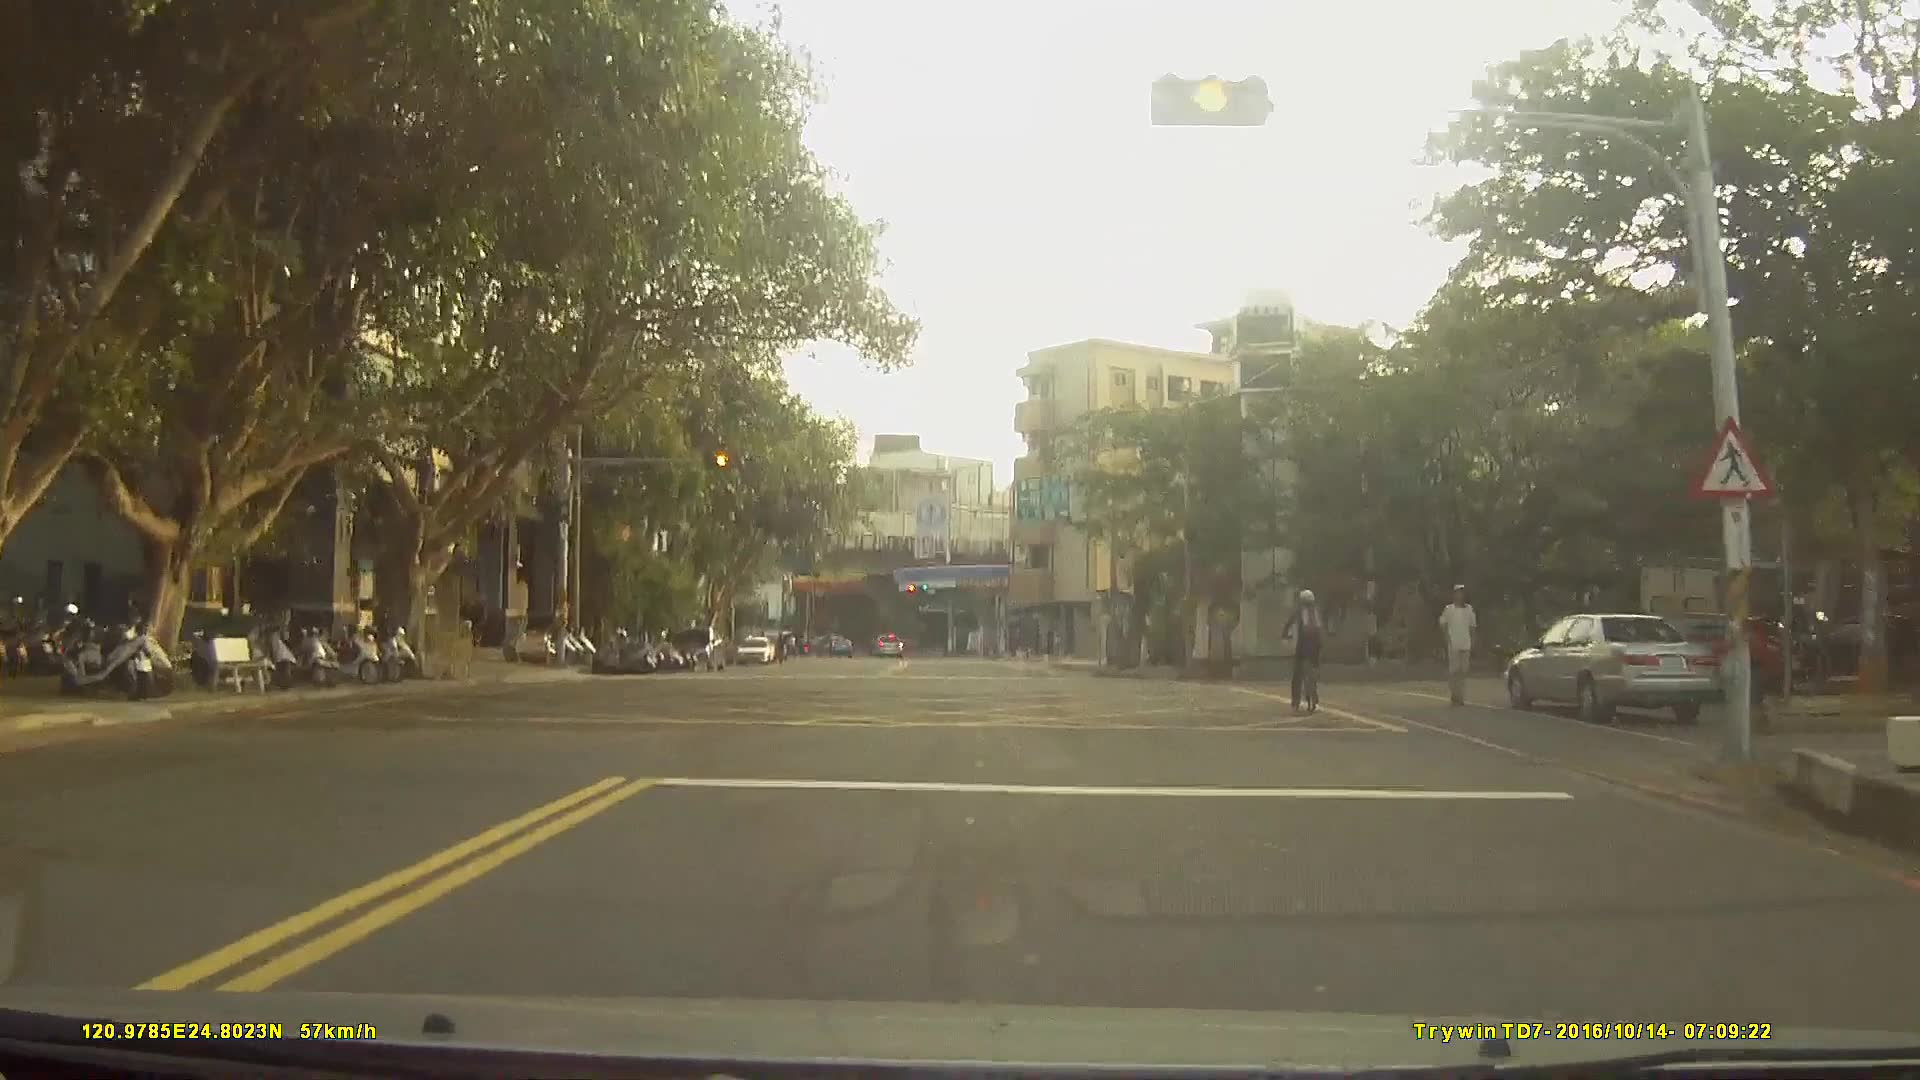pedestrian: (1429, 583, 1488, 709), (455, 597, 477, 651)
rider: (1282, 589, 1332, 712)
vehicle: (1505, 613, 1723, 724), (671, 624, 727, 672), (734, 631, 772, 663), (811, 635, 851, 658), (868, 634, 902, 660)
